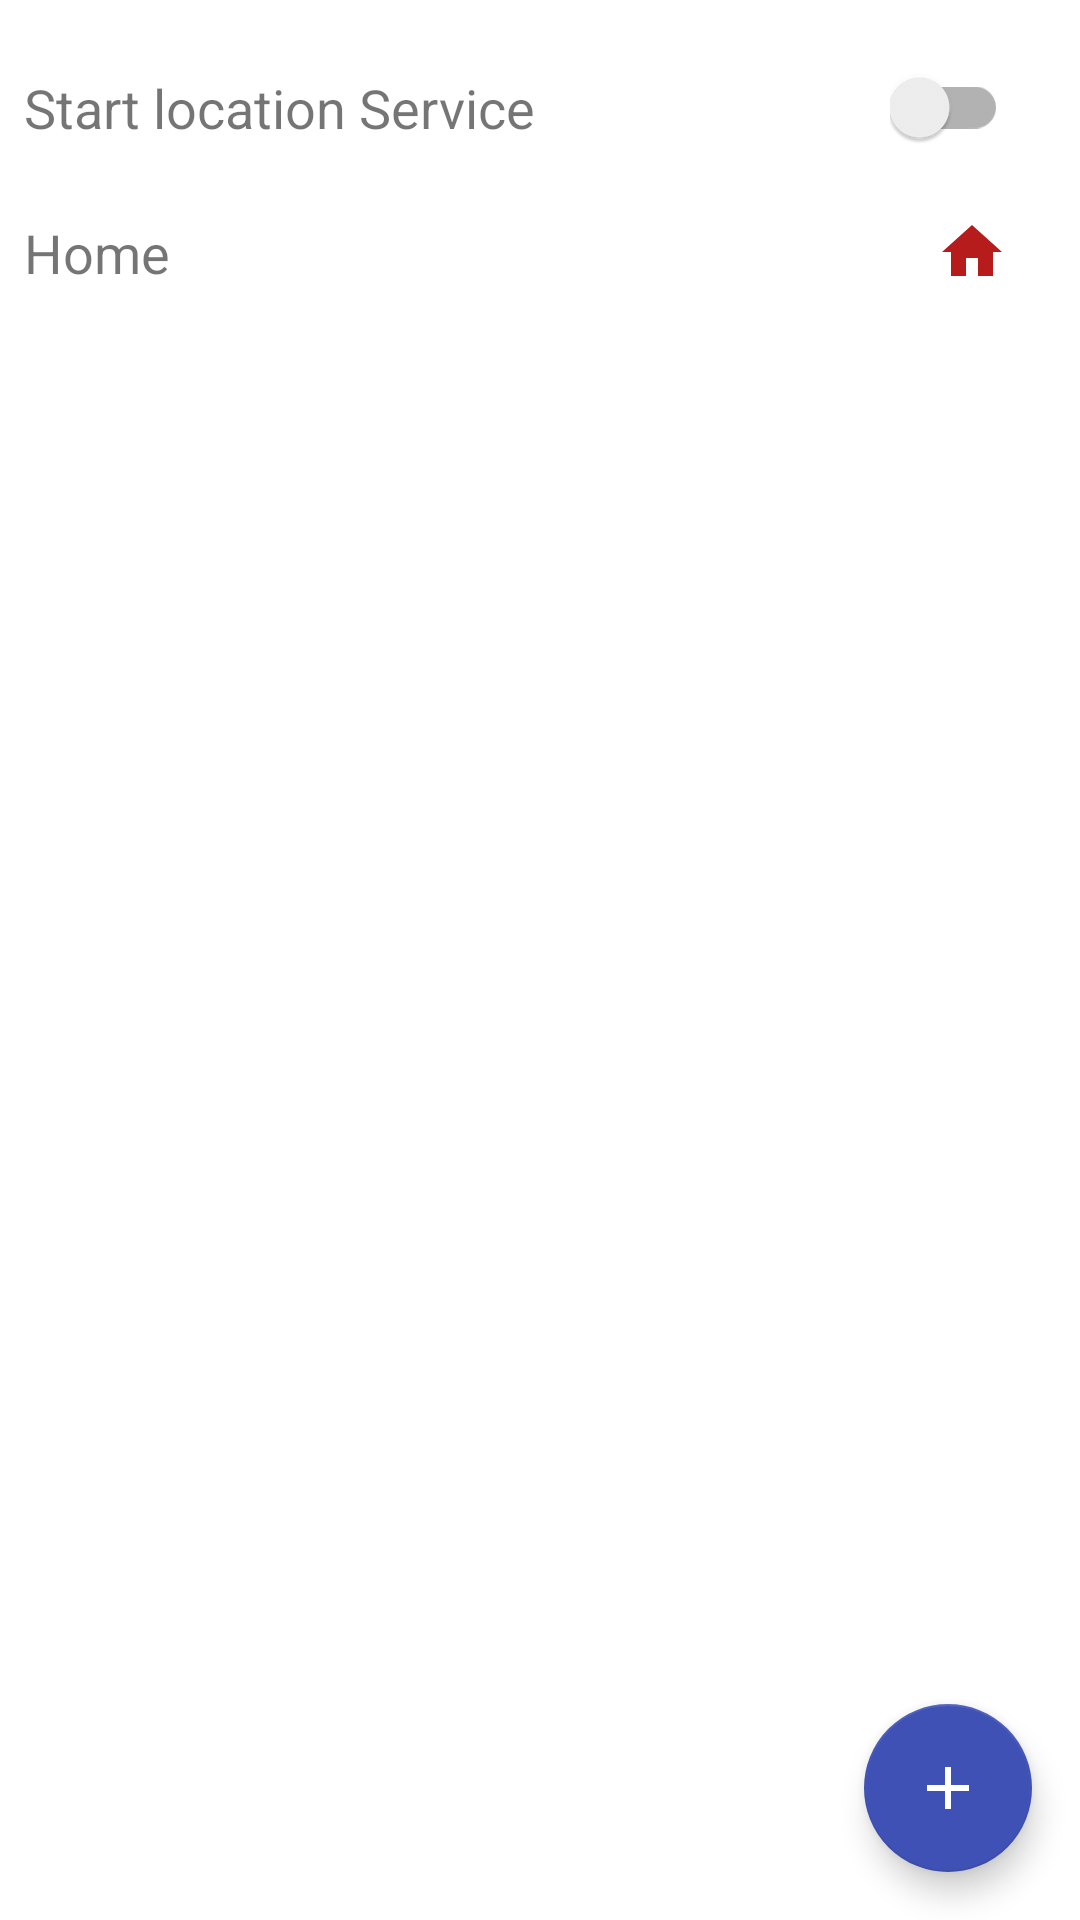

Named icons in this screenshot (1080 x 1920) and their centers, [x,y]:
home: [972,250]
plus: [948,1788]
